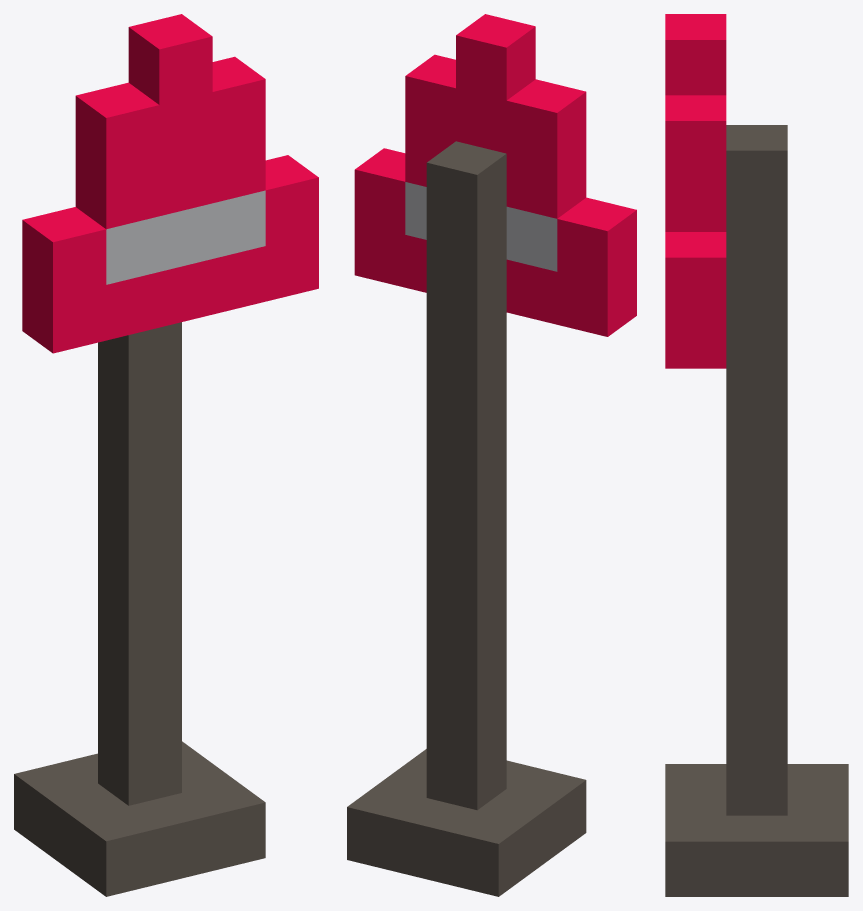
Rendered from traffic_sign_b_a.obj.
3 renders of one model, left to right at view 1: azimuth 30°, elevation 25°; view 2: azimuth 150°, elevation 25°; view 3: azimuth 270°, elevation 25°, orthographic. The views are drawn at different scales.
Size of the model in its own units: 0.5 by 1.5 by 0.3.
Materials: 1 (1 with a texture image).
